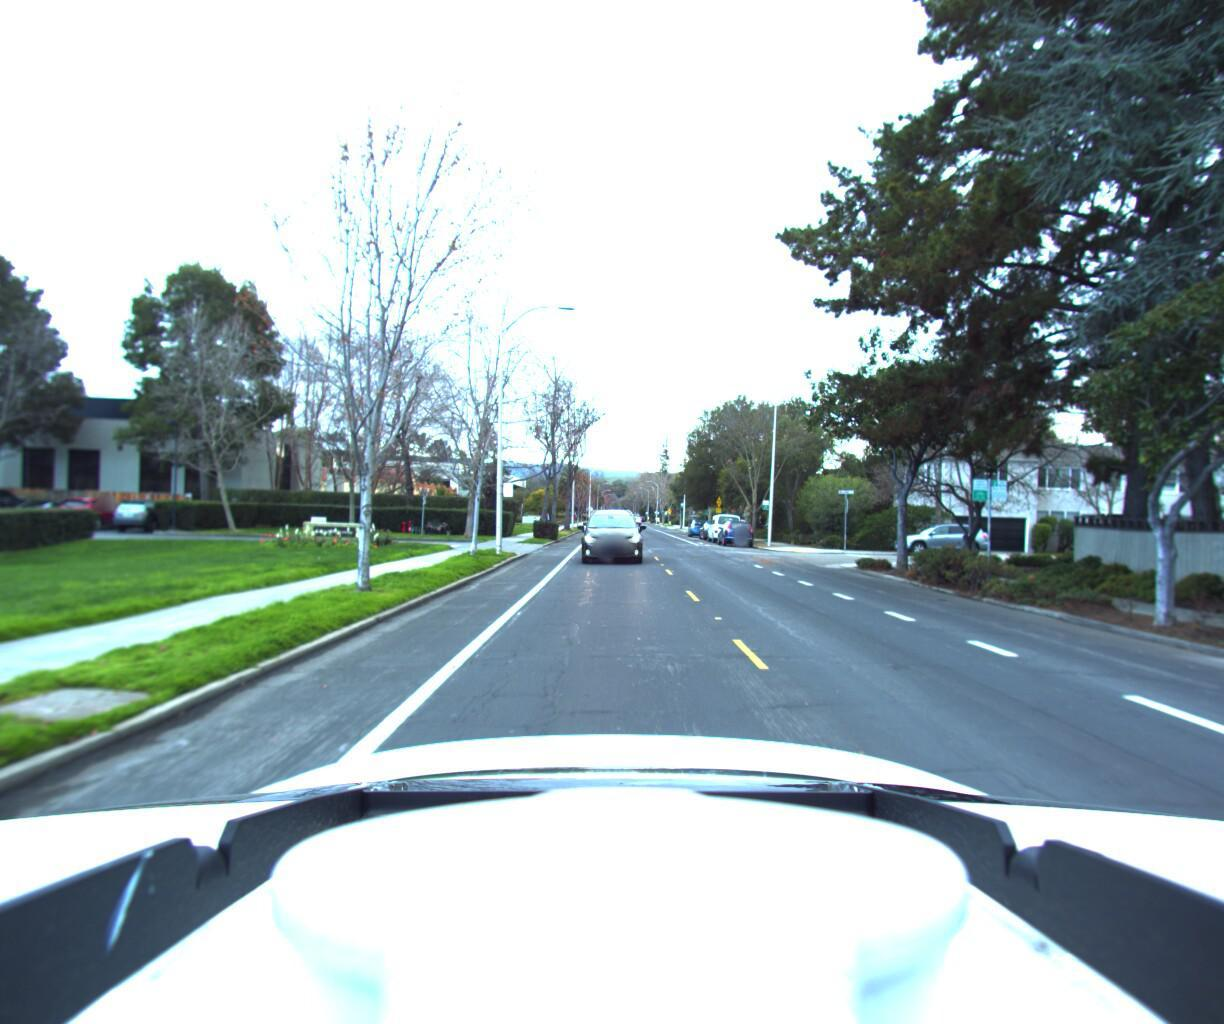car: (888, 516, 992, 553), (580, 506, 644, 566), (703, 508, 743, 540), (714, 515, 755, 543), (685, 515, 711, 534)
